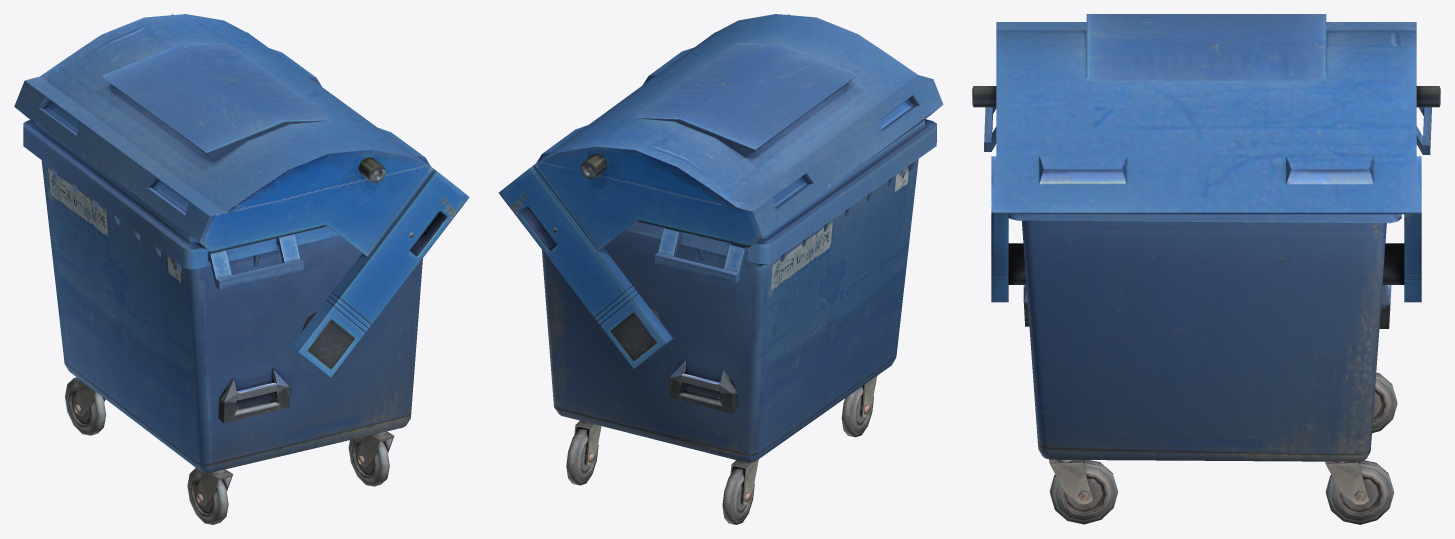
Rendered from Garbage_Container_.obj.
The picture shows the model from 3 angles, left to right: view 1: azimuth 30°, elevation 25°; view 2: azimuth 150°, elevation 25°; view 3: azimuth 270°, elevation 25°; orthographic projection. The views are drawn at different scales.
Parts seen in each view (by area): view 1: Cube; view 2: Cube; view 3: Cube.
Part boxes in pixels (bbox=[...]): Cube: bbox=[14, 14, 469, 524]; Cube: bbox=[498, 14, 943, 524]; Cube: bbox=[972, 14, 1440, 524].
Bounding box in the file's own units: 2.59 × 3.46 × 3.39.
